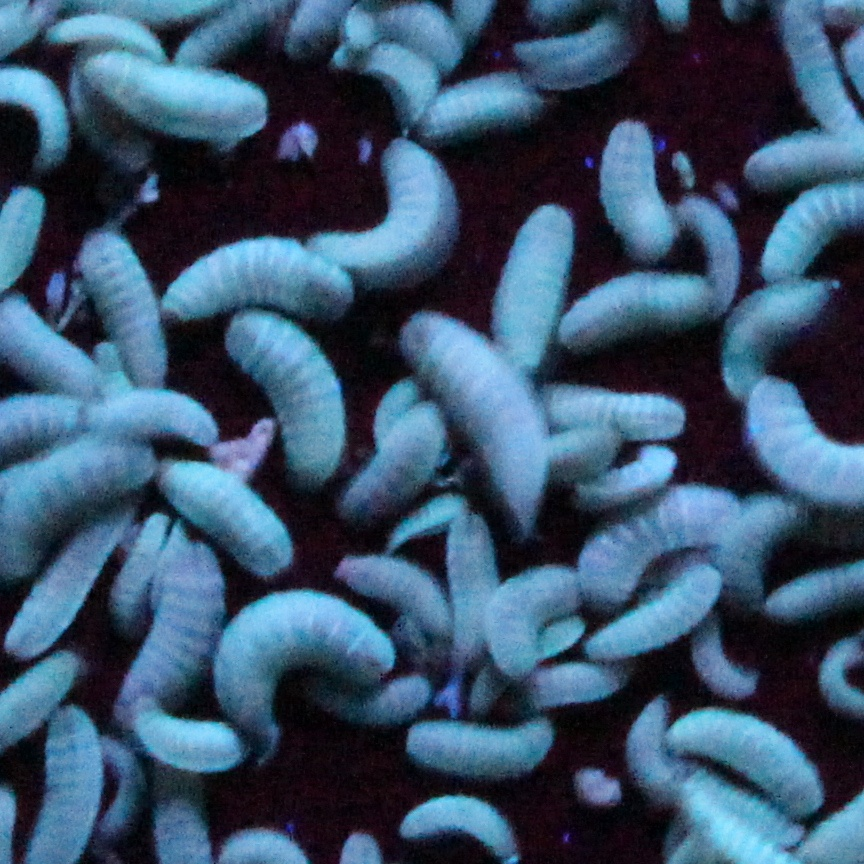larve: (388, 309, 560, 516), (212, 298, 360, 488), (201, 585, 394, 719), (294, 135, 468, 275), (157, 229, 365, 335), (75, 40, 283, 140), (672, 699, 835, 826), (564, 113, 684, 284), (147, 453, 308, 572), (6, 498, 119, 665), (70, 225, 176, 396), (485, 193, 576, 378), (581, 555, 727, 663), (390, 701, 565, 783), (532, 363, 690, 444), (480, 563, 585, 680), (129, 688, 255, 785), (401, 65, 539, 142), (622, 701, 717, 812), (449, 523, 510, 674)
